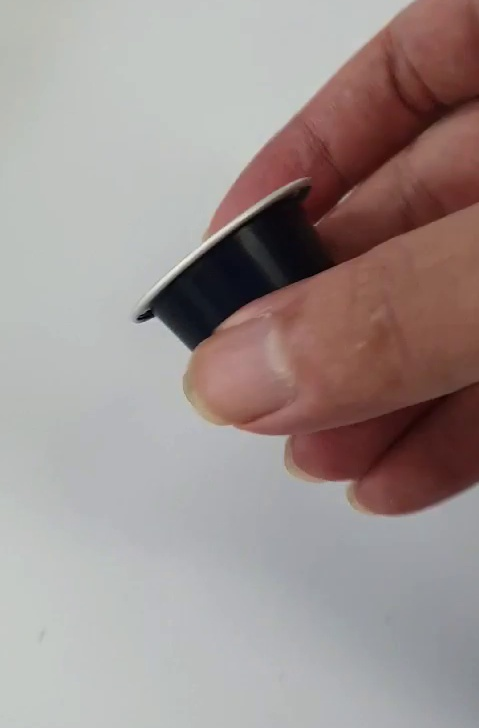capsule_1: (134, 172, 347, 382)
